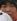without_mask: (1, 2, 17, 21)
